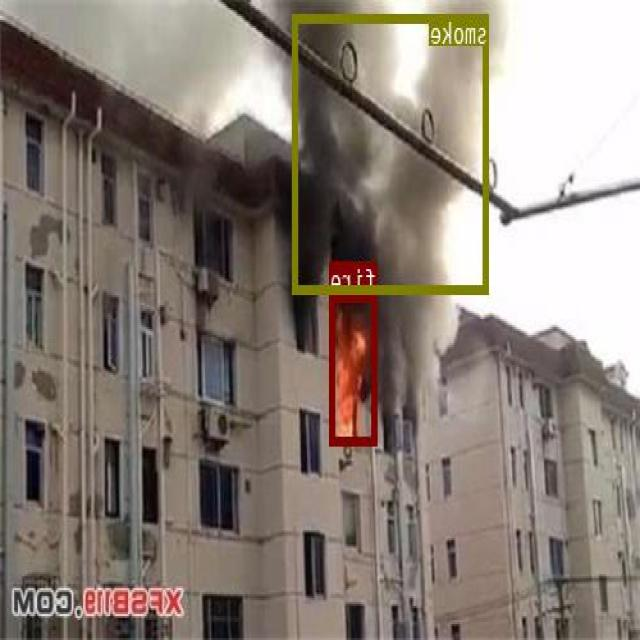fire: (330, 292, 378, 443)
smoke: (294, 12, 490, 292)
